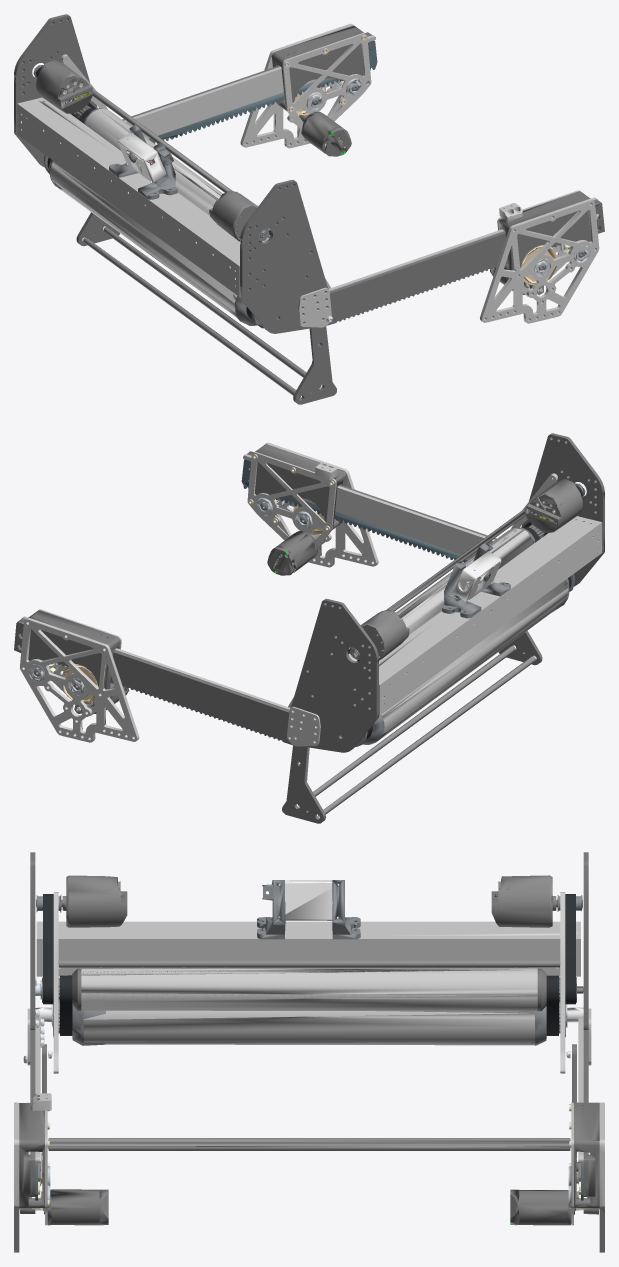
Rendered from intake-581-donor.glb.
The picture shows the model from 3 angles, top to bottom: view 1: azimuth 30°, elevation 25°; view 2: azimuth 150°, elevation 25°; view 3: azimuth 270°, elevation 25°; orthographic projection. The views are drawn at different scales.
Visible parts, largest first — view 1: intake; view 2: intake; view 3: intake.
Boxes of the visible parts, x1,y1,x2,y2 form: intake: (14, 14, 604, 404); intake: (14, 433, 604, 823); intake: (14, 852, 604, 1252).
Bounding box in the file's own units: 0.6237 × 0.3801 × 0.7239.
